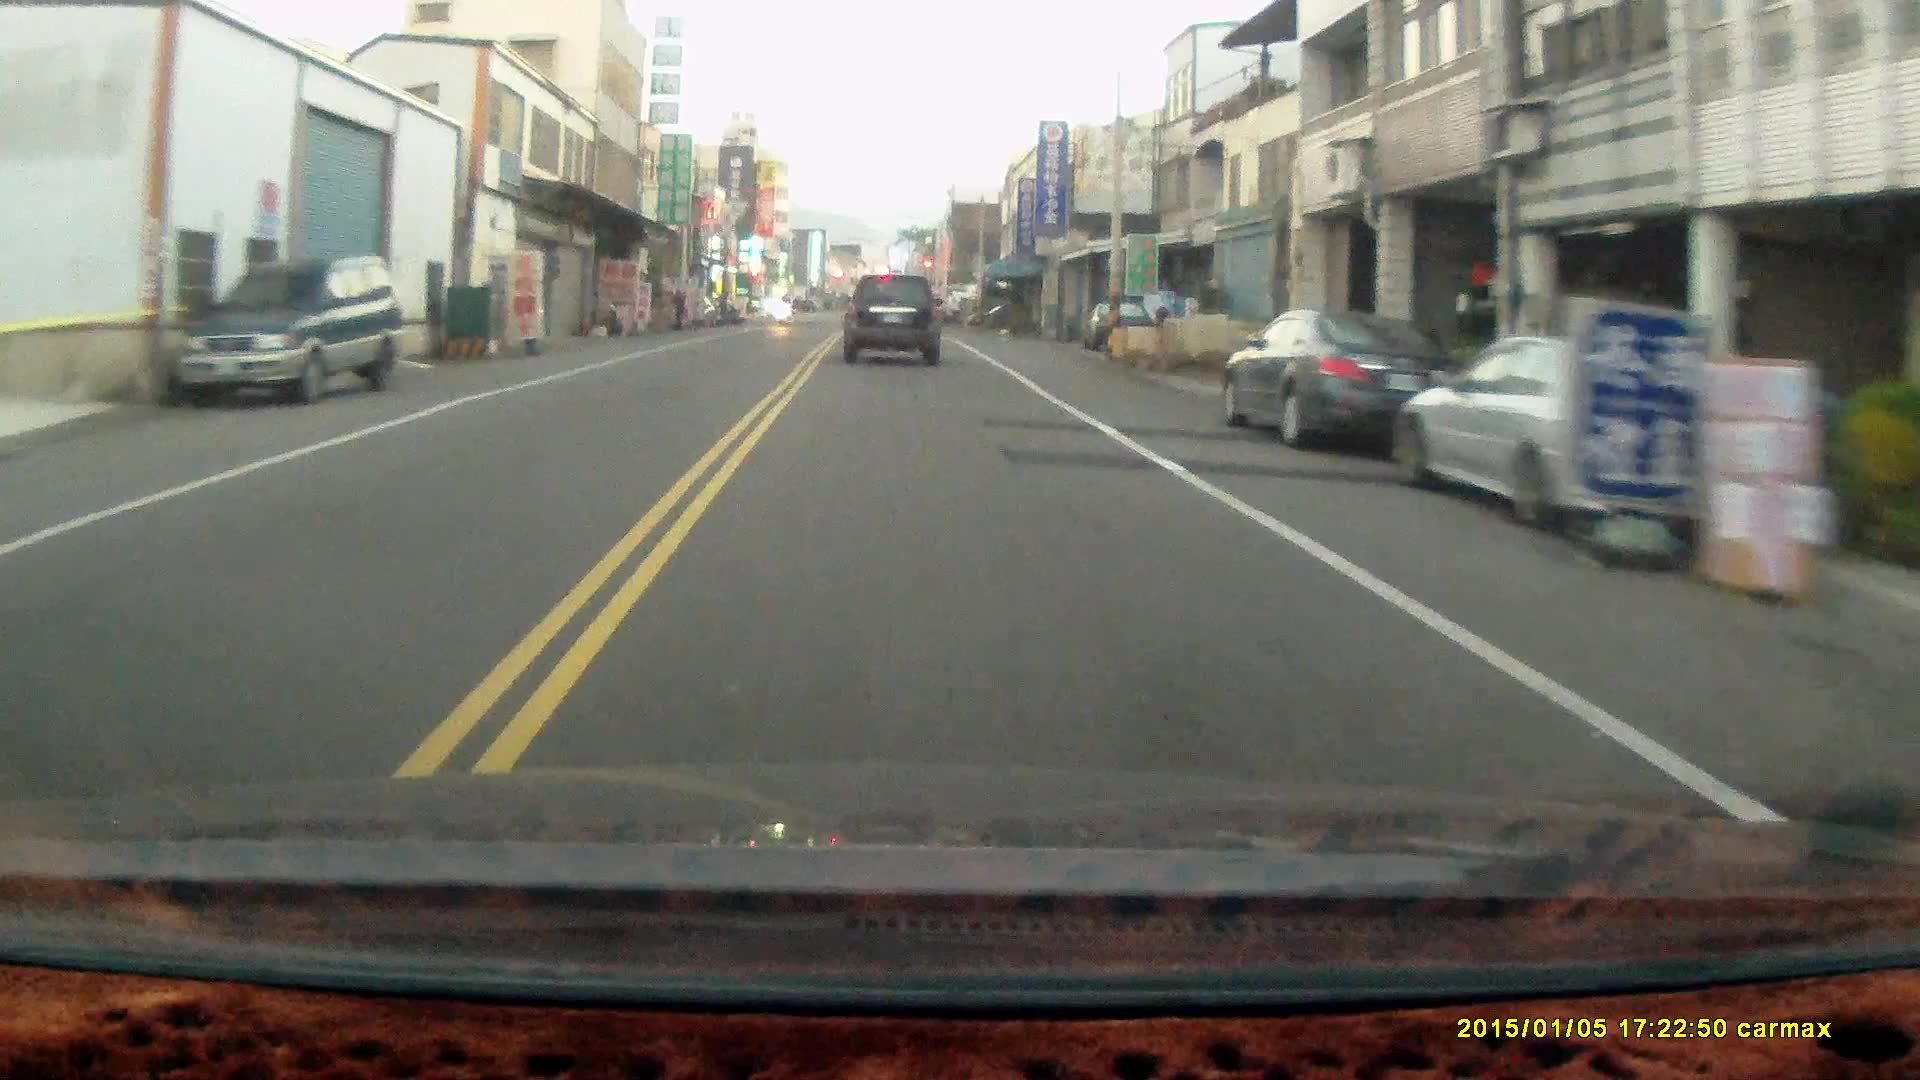pedestrian: (667, 286, 687, 332)
vehicle: (1401, 326, 1812, 521), (1220, 305, 1475, 448), (176, 254, 403, 406), (843, 274, 945, 367)
